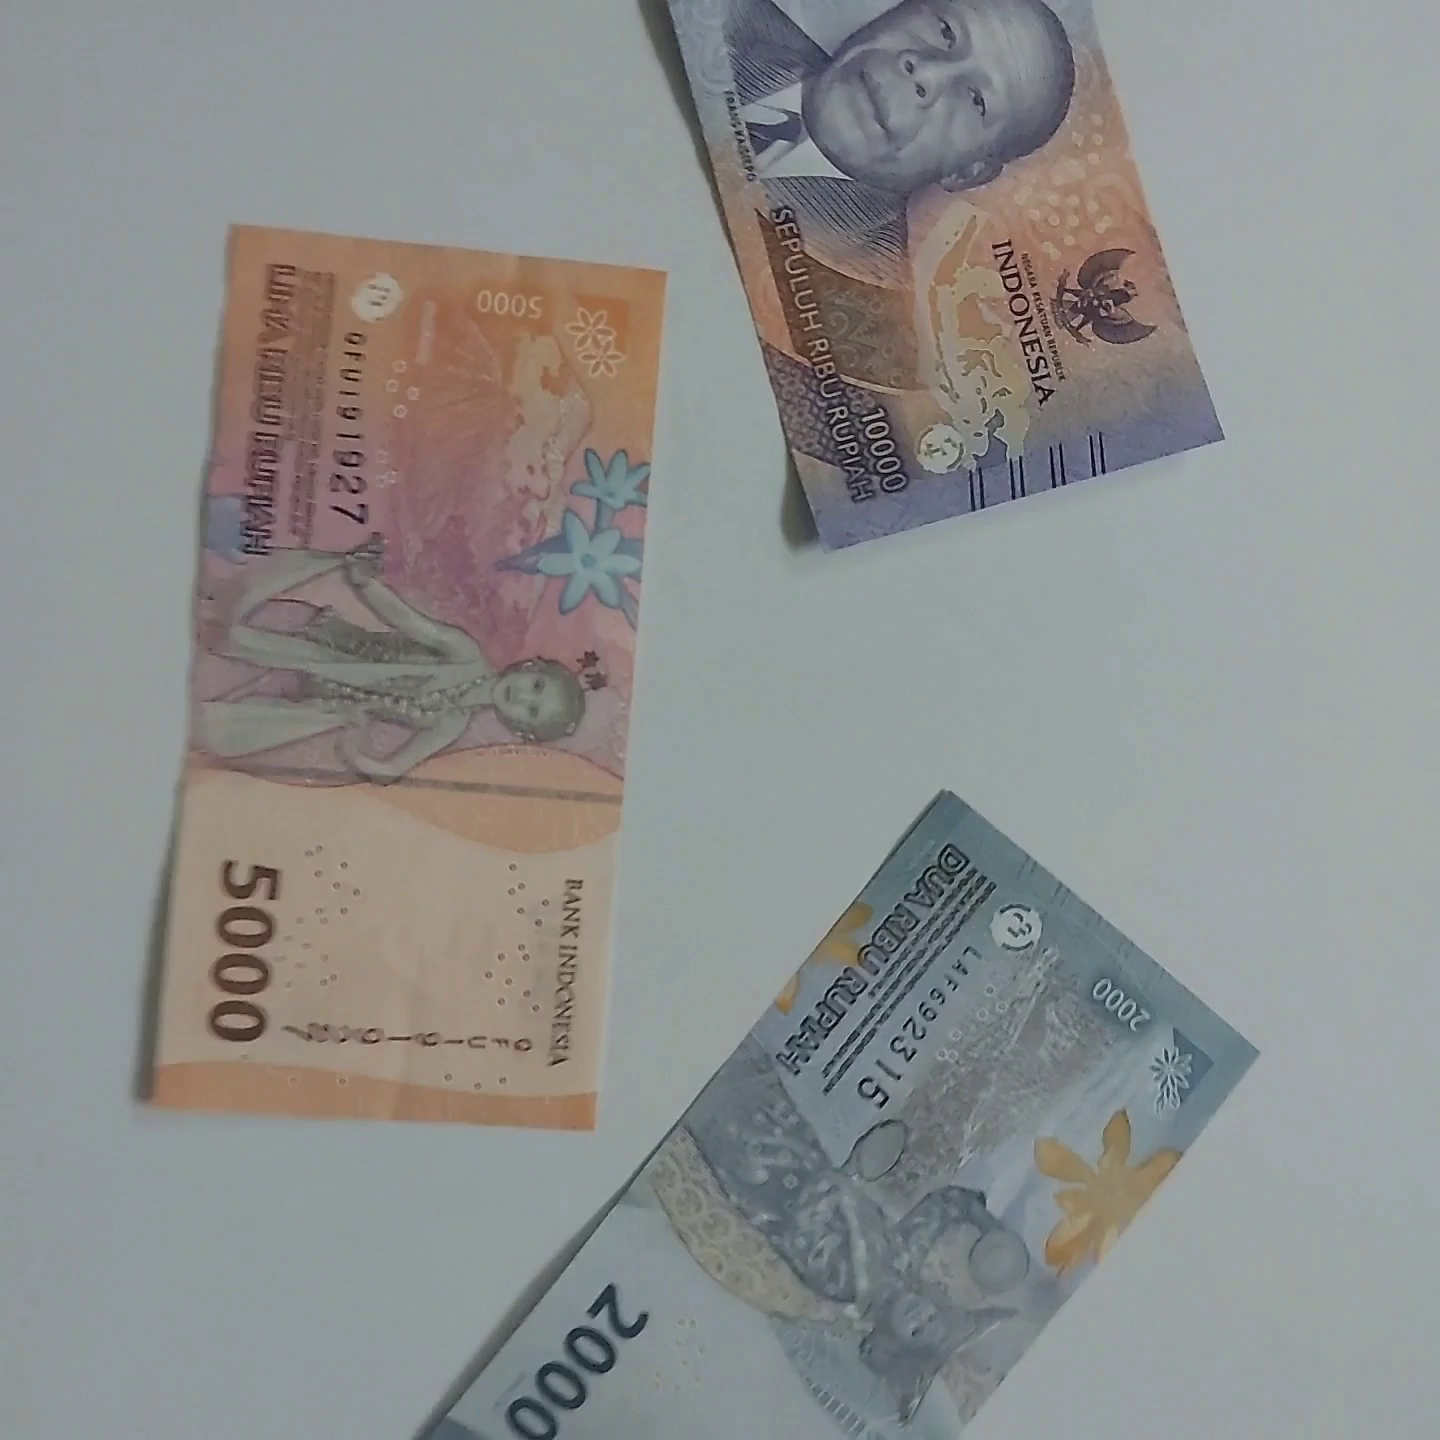10k: (663, 0, 1415, 543)
2k: (425, 791, 1374, 1440)
5k: (137, 223, 641, 1130)
